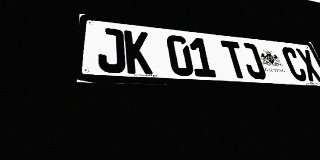0: (166, 34, 195, 76)
1: (187, 37, 217, 77)
C: (280, 47, 309, 81)
J: (98, 27, 126, 73), (238, 42, 268, 80)
K: (124, 30, 153, 75)
T: (220, 40, 250, 79)
X: (295, 48, 320, 82)
